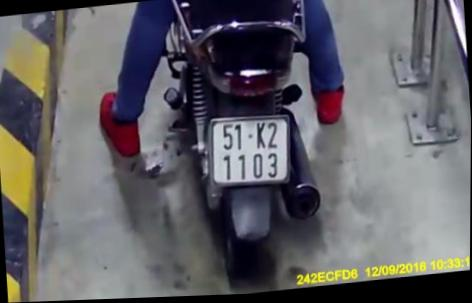LP: (204, 108, 295, 195)
